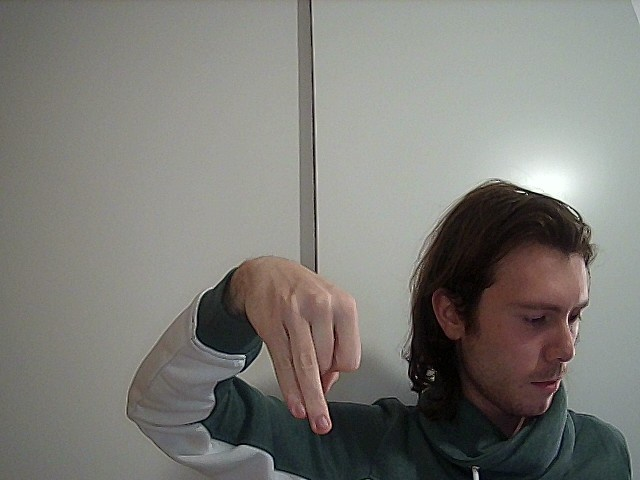n: (229, 239, 367, 440)
